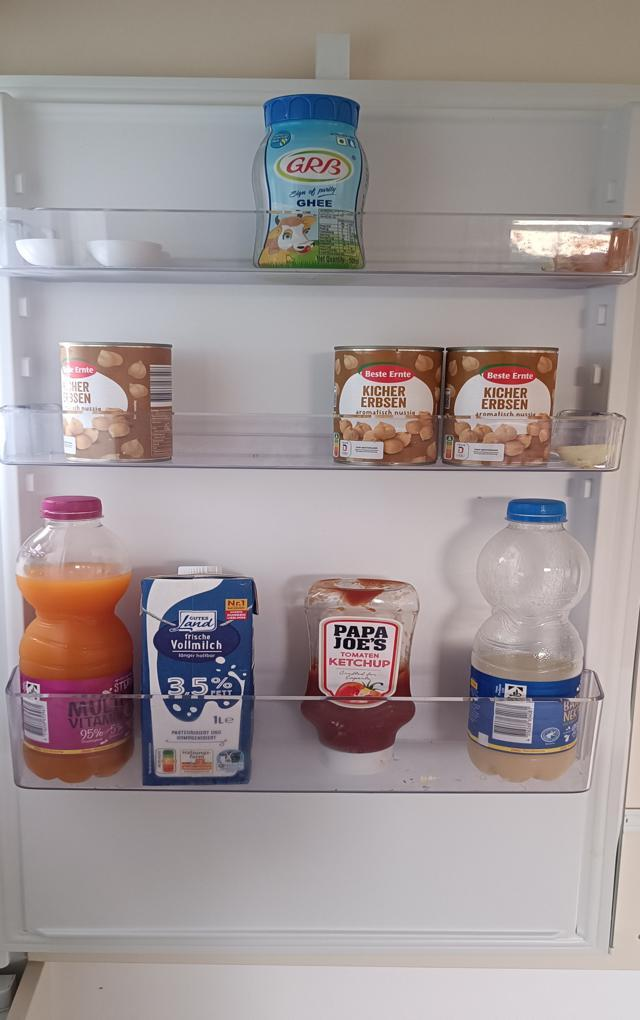bananajuice: (468, 497, 584, 783)
chickpeas: (58, 338, 175, 467), (334, 343, 441, 467), (445, 345, 554, 463)
ghee: (252, 93, 366, 272)
milk: (141, 566, 260, 788)
orangejuice: (14, 492, 136, 785)
tomatoketchup: (298, 575, 419, 772)
